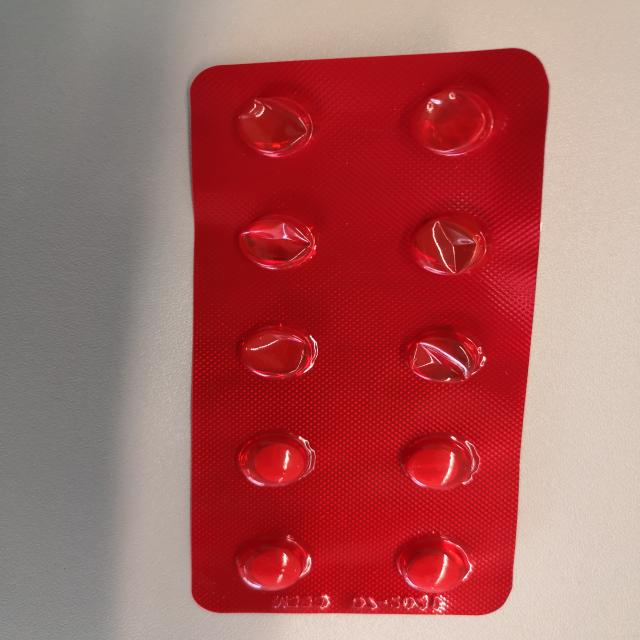Empty: (387, 205, 505, 282), (226, 203, 340, 279), (389, 316, 501, 390), (226, 84, 329, 160), (404, 82, 499, 163), (226, 314, 325, 384)
Pill: (383, 424, 499, 502), (387, 530, 486, 602), (226, 531, 320, 595), (230, 429, 325, 492)
